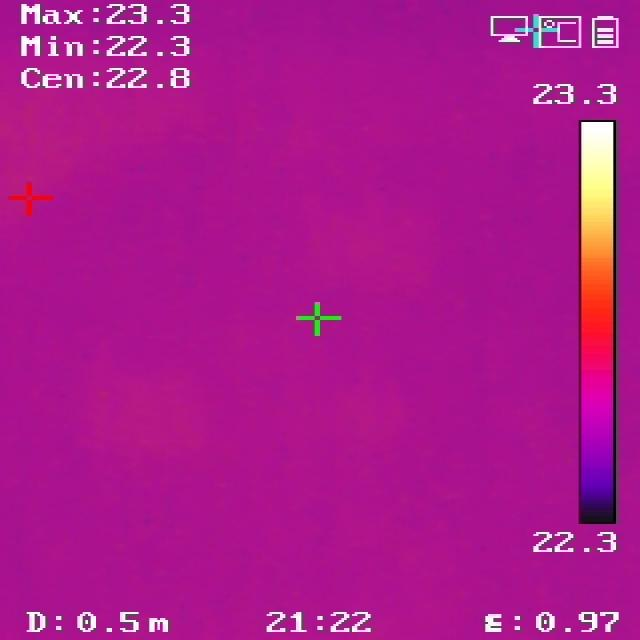Indistinguishable 4-bar target: (86, 372, 202, 447)
